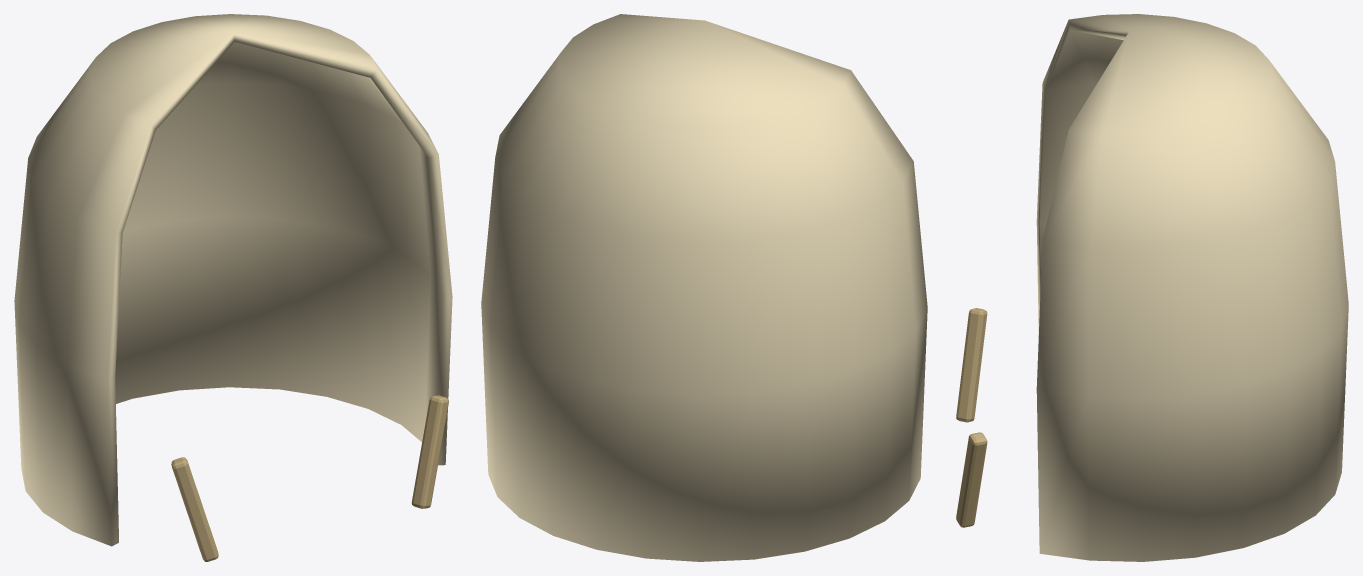
The model's file is profession_mason_hood.glb.
3 views of the same model, side by side, from view 1: azimuth 30°, elevation 25°; view 2: azimuth 150°, elevation 25°; view 3: azimuth 270°, elevation 25° (orthographic).
Parts seen in each view (by area): view 1: profession_mason_hood; view 2: profession_mason_hood; view 3: profession_mason_hood.
Boxes of the visible parts, <box> form: profession_mason_hood: <box>14,14,452,561</box>; profession_mason_hood: <box>481,14,927,561</box>; profession_mason_hood: <box>956,14,1348,561</box>.
Size of the model in its own units: 0.3193 by 0.3559 by 0.2864.
